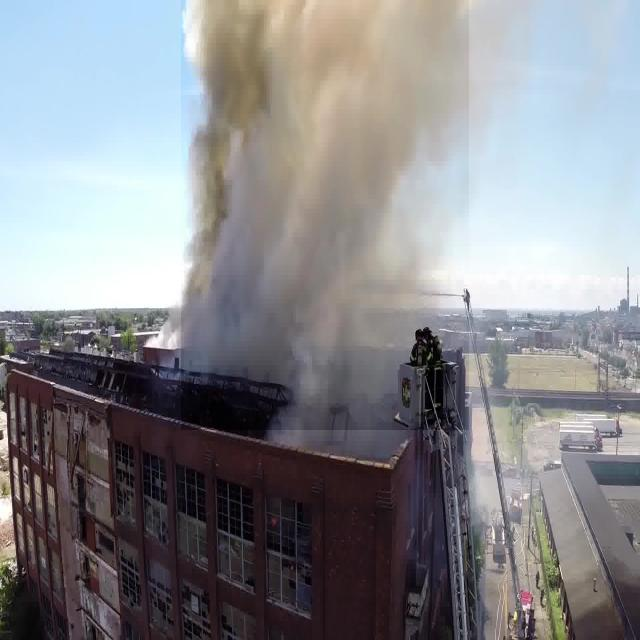Smoke: (181, 0, 469, 430)
